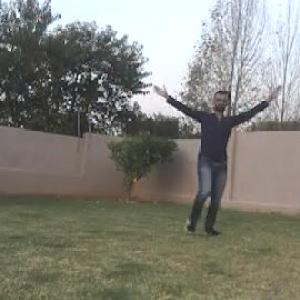takeoff: (147, 79, 288, 224)
